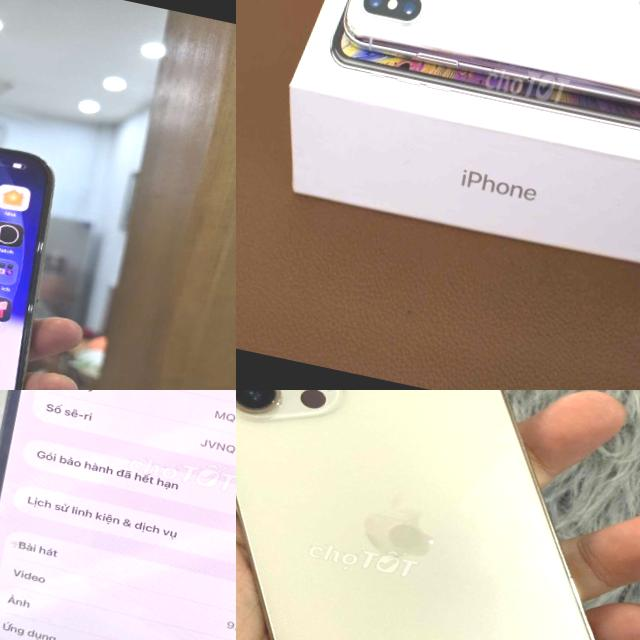gen_12_13: (236, 390, 640, 640)
gen_14: (0, 390, 236, 640)
gen_15: (0, 105, 102, 390)
gen_x_xs: (300, 0, 640, 187)
